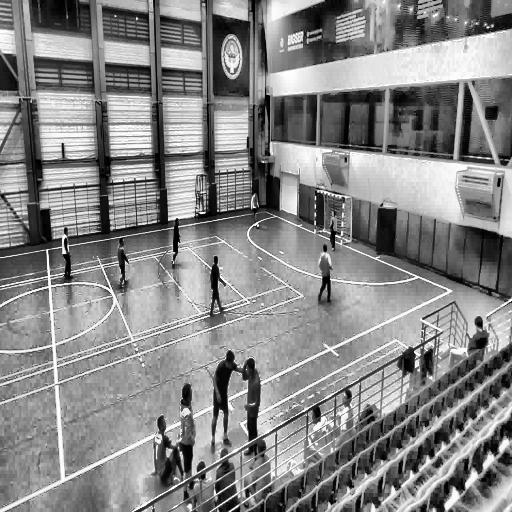ball: (256, 222, 261, 230)
player: (211, 352, 244, 452), (150, 415, 184, 491), (177, 384, 196, 486), (244, 440, 271, 503), (305, 404, 331, 466), (213, 446, 239, 507), (186, 459, 214, 512), (331, 386, 354, 449), (208, 254, 226, 315), (317, 244, 332, 304), (61, 226, 73, 279), (118, 238, 129, 288), (328, 209, 338, 251), (172, 218, 180, 268), (251, 190, 259, 225)
